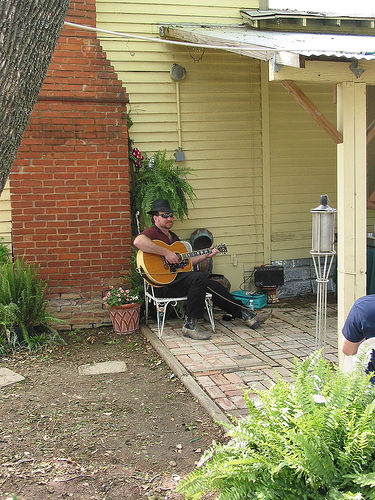without_mask: (150, 207, 176, 230)
